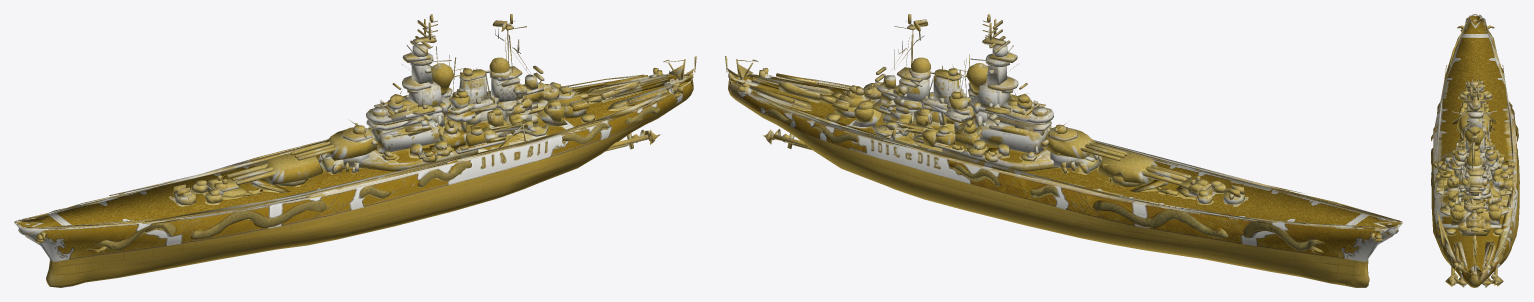
File: npc-wisconsin-golden.glb
3 views of the same model, side by side, from view 1: azimuth 30°, elevation 25°; view 2: azimuth 150°, elevation 25°; view 3: azimuth 270°, elevation 25° (orthographic). The views are drawn at different scales.
Size of the model in its own units: 0.9551 by 0.2451 by 0.1431.
Materials: 1 (1 with a texture image).
